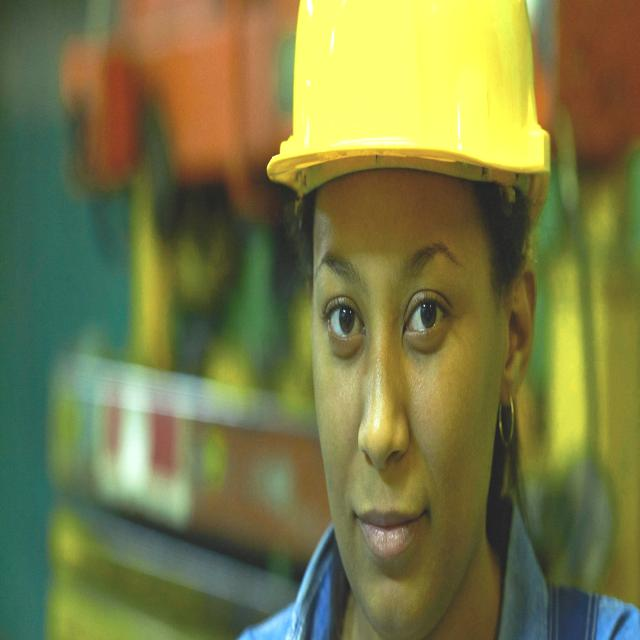face_nomask: (310, 207, 502, 613)
head_helmet: (279, 7, 561, 192)
person: (238, 6, 614, 640)
